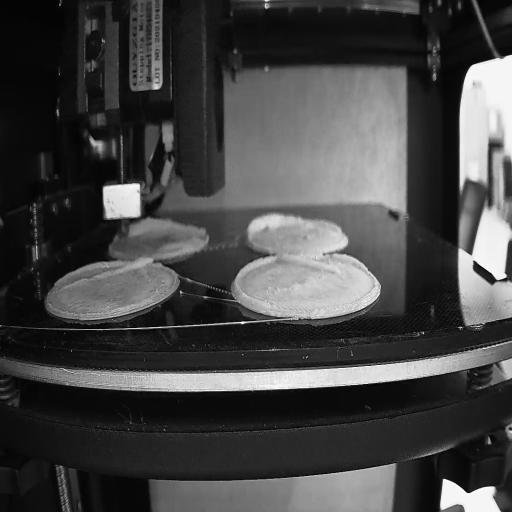over_extrusion: (62, 255, 155, 293), (232, 256, 278, 308), (279, 254, 368, 276), (244, 213, 302, 242), (134, 211, 203, 234), (314, 220, 342, 232)
